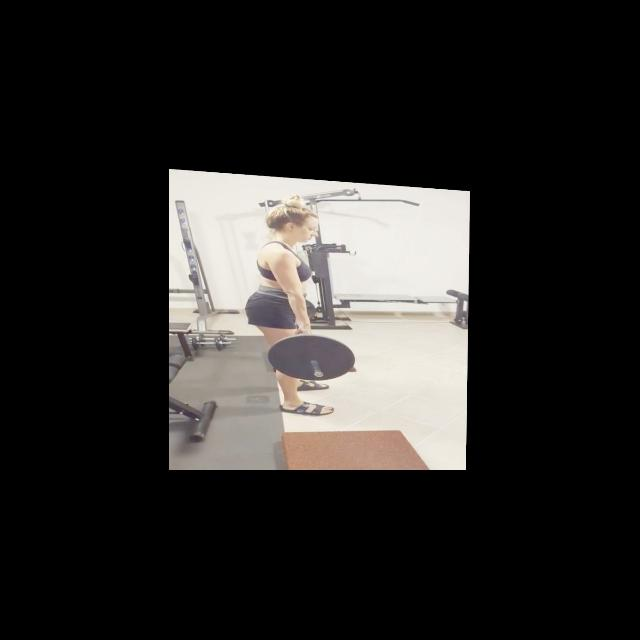barbell: (265, 327, 356, 382)
